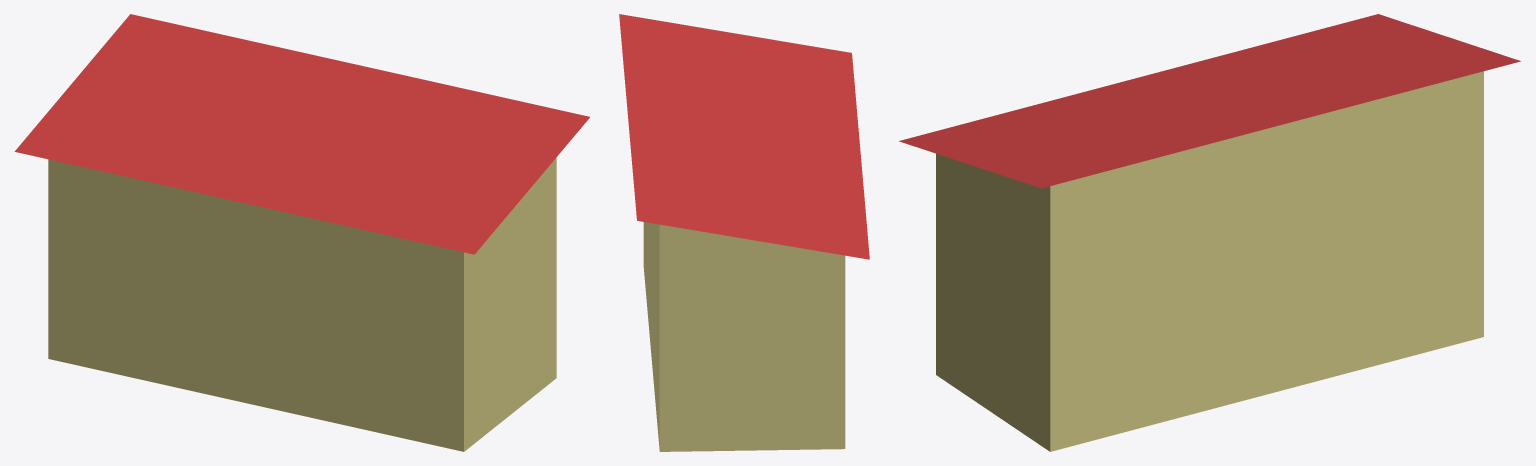
3 renders of one model, left to right at view 1: azimuth 30°, elevation 25°; view 2: azimuth 150°, elevation 25°; view 3: azimuth 270°, elevation 25°, orthographic. The views are drawn at different scales.
Size of the model in its own units: 19.4 by 22.84 by 11.3.
